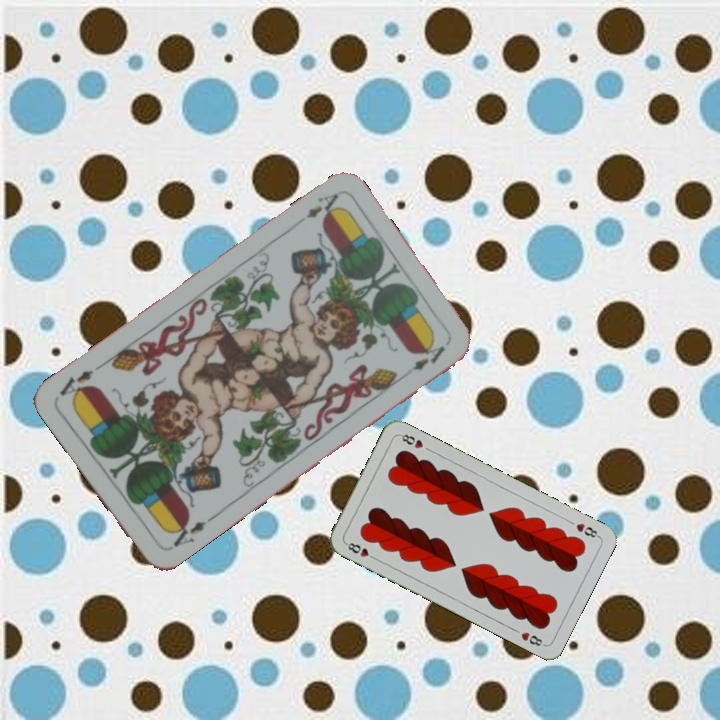EA: (165, 514, 209, 550), (302, 189, 343, 224)
H8: (341, 538, 379, 562), (572, 519, 602, 540)
